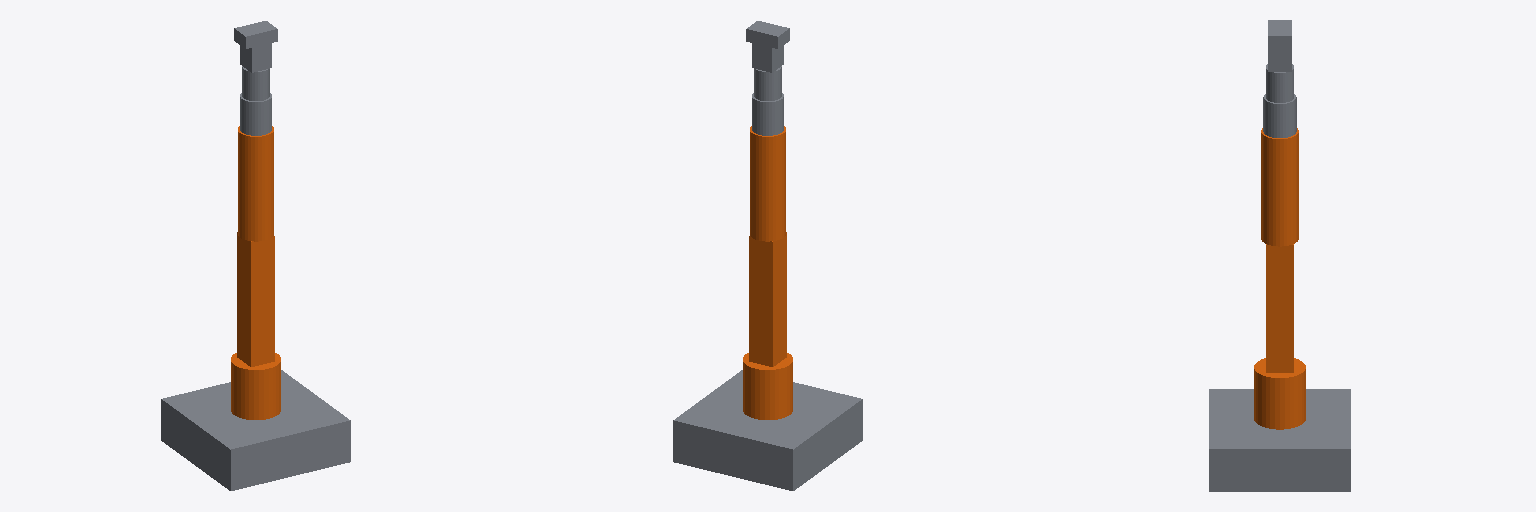
The robot description file, URDF, robot "demo_arm":
<?xml version="1.0"?>
<!-- Procedural 6-DOF arm. Generated by tools/gen_urdf.py. -->
<robot name="demo_arm">
  <material name="grey"><color rgba="0.55 0.57 0.60 1.0"/></material>
  <material name="orange"><color rgba="0.90 0.45 0.10 1.0"/></material>
  <link name="base_link">
    <visual>
      <origin xyz="0.0000 0.0000 0.0500" rpy="0 0 0"/>
      <geometry><box size="0.3000 0.3000 0.1000"/></geometry>
      <material name="grey"/>
    </visual>
    <collision>
      <origin xyz="0.0000 0.0000 0.0500" rpy="0 0 0"/>
      <geometry><box size="0.3000 0.3000 0.1000"/></geometry>
    </collision>
    <inertial>
      <origin xyz="0.0000 0.0000 0.0500" rpy="0 0 0"/>
      <mass value="4.0"/>
      <inertia ixx="0.033333" ixy="0" ixz="0" iyy="0.033333" iyz="0" izz="0.060000"/>
    </inertial>
  </link>

  <joint name="shoulder_pan_joint" type="revolute">
    <parent link="base_link"/>
    <child link="shoulder_link"/>
    <origin xyz="0.0000 0.0000 0.1000" rpy="0 0 0"/>
    <axis xyz="0 0 1"/>
    <limit lower="-3.14" upper="3.14" effort="150" velocity="2.0"/>
    <dynamics damping="0.7" friction="0.05"/>
  </joint>

  <link name="shoulder_link">
    <visual>
      <origin xyz="0.0000 0.0000 0.0600" rpy="0 0 0"/>
      <geometry><cylinder radius="0.055" length="0.12"/></geometry>
      <material name="orange"/>
    </visual>
    <collision>
      <origin xyz="0.0000 0.0000 0.0600" rpy="0 0 0"/>
      <geometry><cylinder radius="0.055" length="0.12"/></geometry>
    </collision>
    <inertial>
      <origin xyz="0.0000 0.0000 0.0600" rpy="0 0 0"/>
      <mass value="2.0"/>
      <inertia ixx="0.003912" ixy="0" ixz="0" iyy="0.003912" iyz="0" izz="0.003025"/>
    </inertial>
  </link>

  <joint name="elbow_pitch_joint" type="revolute">
    <parent link="shoulder_link"/>
    <child link="upper_arm_link"/>
    <origin xyz="0.0000 0.0000 0.1200" rpy="0 0 0"/>
    <axis xyz="0 1 0"/>
    <limit lower="-2.0" upper="2.0" effort="150" velocity="2.0"/>
    <dynamics damping="0.7" friction="0.05"/>
  </joint>

  <link name="upper_arm_link">
    <visual>
      <origin xyz="0.0000 0.0000 0.1500" rpy="0 0 0"/>
      <geometry><box size="0.0600 0.0600 0.3000"/></geometry>
      <material name="orange"/>
    </visual>
    <collision>
      <origin xyz="0.0000 0.0000 0.1500" rpy="0 0 0"/>
      <geometry><box size="0.0600 0.0600 0.3000"/></geometry>
    </collision>
    <inertial>
      <origin xyz="0.0000 0.0000 0.1500" rpy="0 0 0"/>
      <mass value="2.5"/>
      <inertia ixx="0.019500" ixy="0" ixz="0" iyy="0.019500" iyz="0" izz="0.001500"/>
    </inertial>
  </link>

  <joint name="forearm_roll_joint" type="revolute">
    <parent link="upper_arm_link"/>
    <child link="forearm_link"/>
    <origin xyz="0.0000 0.0000 0.3000" rpy="0 0 0"/>
    <axis xyz="0 0 1"/>
    <limit lower="-3.14" upper="3.14" effort="80" velocity="2.5"/>
    <dynamics damping="0.4" friction="0.05"/>
  </joint>

  <link name="forearm_link">
    <visual>
      <origin xyz="0.0000 0.0000 0.1250" rpy="0 0 0"/>
      <geometry><cylinder radius="0.04" length="0.25"/></geometry>
      <material name="orange"/>
    </visual>
    <collision>
      <origin xyz="0.0000 0.0000 0.1250" rpy="0 0 0"/>
      <geometry><cylinder radius="0.04" length="0.25"/></geometry>
    </collision>
    <inertial>
      <origin xyz="0.0000 0.0000 0.1250" rpy="0 0 0"/>
      <mass value="1.5"/>
      <inertia ixx="0.008412" ixy="0" ixz="0" iyy="0.008412" iyz="0" izz="0.001200"/>
    </inertial>
  </link>

  <joint name="wrist_1_joint" type="revolute">
    <parent link="forearm_link"/>
    <child link="wrist_1_link"/>
    <origin xyz="0.0000 0.0000 0.2500" rpy="0 0 0"/>
    <axis xyz="0 1 0"/>
    <limit lower="-2.5" upper="2.5" effort="40" velocity="3.0"/>
    <dynamics damping="0.3" friction="0.05"/>
  </joint>

  <link name="wrist_1_link">
    <visual>
      <origin xyz="0.0000 0.0000 0.0400" rpy="0 0 0"/>
      <geometry><cylinder radius="0.035" length="0.08"/></geometry>
      <material name="grey"/>
    </visual>
    <collision>
      <origin xyz="0.0000 0.0000 0.0400" rpy="0 0 0"/>
      <geometry><cylinder radius="0.035" length="0.08"/></geometry>
    </collision>
    <inertial>
      <origin xyz="0.0000 0.0000 0.0400" rpy="0 0 0"/>
      <mass value="0.6"/>
      <inertia ixx="0.000504" ixy="0" ixz="0" iyy="0.000504" iyz="0" izz="0.000368"/>
    </inertial>
  </link>

  <joint name="wrist_2_joint" type="revolute">
    <parent link="wrist_1_link"/>
    <child link="wrist_2_link"/>
    <origin xyz="0.0000 0.0000 0.0800" rpy="0 0 0"/>
    <axis xyz="0 0 1"/>
    <limit lower="-2.5" upper="2.5" effort="30" velocity="3.0"/>
    <dynamics damping="0.3" friction="0.05"/>
  </joint>

  <link name="wrist_2_link">
    <visual>
      <origin xyz="0.0000 0.0000 0.0350" rpy="0 0 0"/>
      <geometry><cylinder radius="0.03" length="0.07"/></geometry>
      <material name="grey"/>
    </visual>
    <collision>
      <origin xyz="0.0000 0.0000 0.0350" rpy="0 0 0"/>
      <geometry><cylinder radius="0.03" length="0.07"/></geometry>
    </collision>
    <inertial>
      <origin xyz="0.0000 0.0000 0.0350" rpy="0 0 0"/>
      <mass value="0.5"/>
      <inertia ixx="0.000317" ixy="0" ixz="0" iyy="0.000317" iyz="0" izz="0.000225"/>
    </inertial>
  </link>

  <joint name="wrist_3_joint" type="revolute">
    <parent link="wrist_2_link"/>
    <child link="tool_link"/>
    <origin xyz="0.0000 0.0000 0.0700" rpy="0 0 0"/>
    <axis xyz="0 0 1"/>
    <limit lower="-3.14" upper="3.14" effort="20" velocity="3.5"/>
    <dynamics damping="0.2" friction="0.05"/>
  </joint>

  <link name="tool_link">
    <visual>
      <origin xyz="0.0000 0.0000 0.0300" rpy="0 0 0"/>
      <geometry><box size="0.0500 0.0500 0.0600"/></geometry>
      <material name="grey"/>
    </visual>
    <collision>
      <origin xyz="0.0000 0.0000 0.0300" rpy="0 0 0"/>
      <geometry><box size="0.0500 0.0500 0.0600"/></geometry>
    </collision>
    <inertial>
      <origin xyz="0.0000 0.0000 0.0300" rpy="0 0 0"/>
      <mass value="0.3"/>
      <inertia ixx="0.000152" ixy="0" ixz="0" iyy="0.000152" iyz="0" izz="0.000125"/>
    </inertial>
  </link>

  <joint name="gripper_joint" type="prismatic">
    <parent link="tool_link"/>
    <child link="gripper_link"/>
    <origin xyz="0 0 0.06" rpy="0 0 0"/>
    <axis xyz="1 0 0"/>
    <limit lower="0.0" upper="0.04" effort="20" velocity="0.5"/>
    <dynamics damping="1.0"/>
  </joint>

  <link name="gripper_link">
    <visual>
      <origin xyz="0.0000 0.0000 0.0150" rpy="0 0 0"/>
      <geometry><box size="0.0800 0.0500 0.0300"/></geometry>
      <material name="grey"/>
    </visual>
    <collision>
      <origin xyz="0.0000 0.0000 0.0150" rpy="0 0 0"/>
      <geometry><box size="0.0800 0.0500 0.0300"/></geometry>
    </collision>
    <inertial>
      <origin xyz="0.0000 0.0000 0.0150" rpy="0 0 0"/>
      <mass value="0.2"/>
      <inertia ixx="0.000057" ixy="0" ixz="0" iyy="0.000122" iyz="0" izz="0.000148"/>
    </inertial>
  </link>

</robot>

--- Render facts (derived) ---
Views: 3 orthographic renders of the robot side by side, from view 1: azimuth 30°, elevation 25°; view 2: azimuth 150°, elevation 25°; view 3: azimuth 270°, elevation 25°.
Model demo_arm with 8 links and 7 joints (6 revolute, 1 prismatic), rooted at base_link, posed all joints at 0.
Links seen in each view (by area): view 1: base_link, upper_arm_link, forearm_link, shoulder_link, wrist_1_link, gripper_link, wrist_2_link, tool_link; view 2: base_link, upper_arm_link, forearm_link, shoulder_link, wrist_1_link, gripper_link, wrist_2_link, tool_link; view 3: base_link, forearm_link, upper_arm_link, shoulder_link, wrist_1_link, wrist_2_link, gripper_link, tool_link.
Boxes of the visible links, x1,y1,x2,y2 form: base_link: [161, 370, 350, 490]; upper_arm_link: [237, 232, 274, 366]; forearm_link: [238, 126, 273, 241]; shoulder_link: [231, 353, 280, 419]; wrist_1_link: [240, 93, 271, 135]; gripper_link: [234, 21, 277, 48]; wrist_2_link: [242, 66, 269, 100]; tool_link: [240, 43, 271, 72]; base_link: [673, 370, 862, 490]; upper_arm_link: [749, 232, 786, 366]; forearm_link: [750, 126, 785, 241]; shoulder_link: [743, 353, 792, 419]; wrist_1_link: [752, 93, 783, 135]; gripper_link: [746, 21, 789, 48]; wrist_2_link: [754, 66, 781, 100]; tool_link: [752, 43, 783, 72]; base_link: [1209, 389, 1350, 491]; forearm_link: [1261, 128, 1298, 246]; upper_arm_link: [1266, 244, 1293, 372]; shoulder_link: [1254, 358, 1305, 429]; wrist_1_link: [1263, 94, 1296, 137]; wrist_2_link: [1266, 64, 1293, 102]; gripper_link: [1268, 20, 1291, 48]; tool_link: [1268, 49, 1291, 71].
Bounding box of the posed robot: 0.3 × 0.3 × 1.01 m (x, y, z).
Geometry: primitives only (box / cylinder / sphere), no mesh files.
